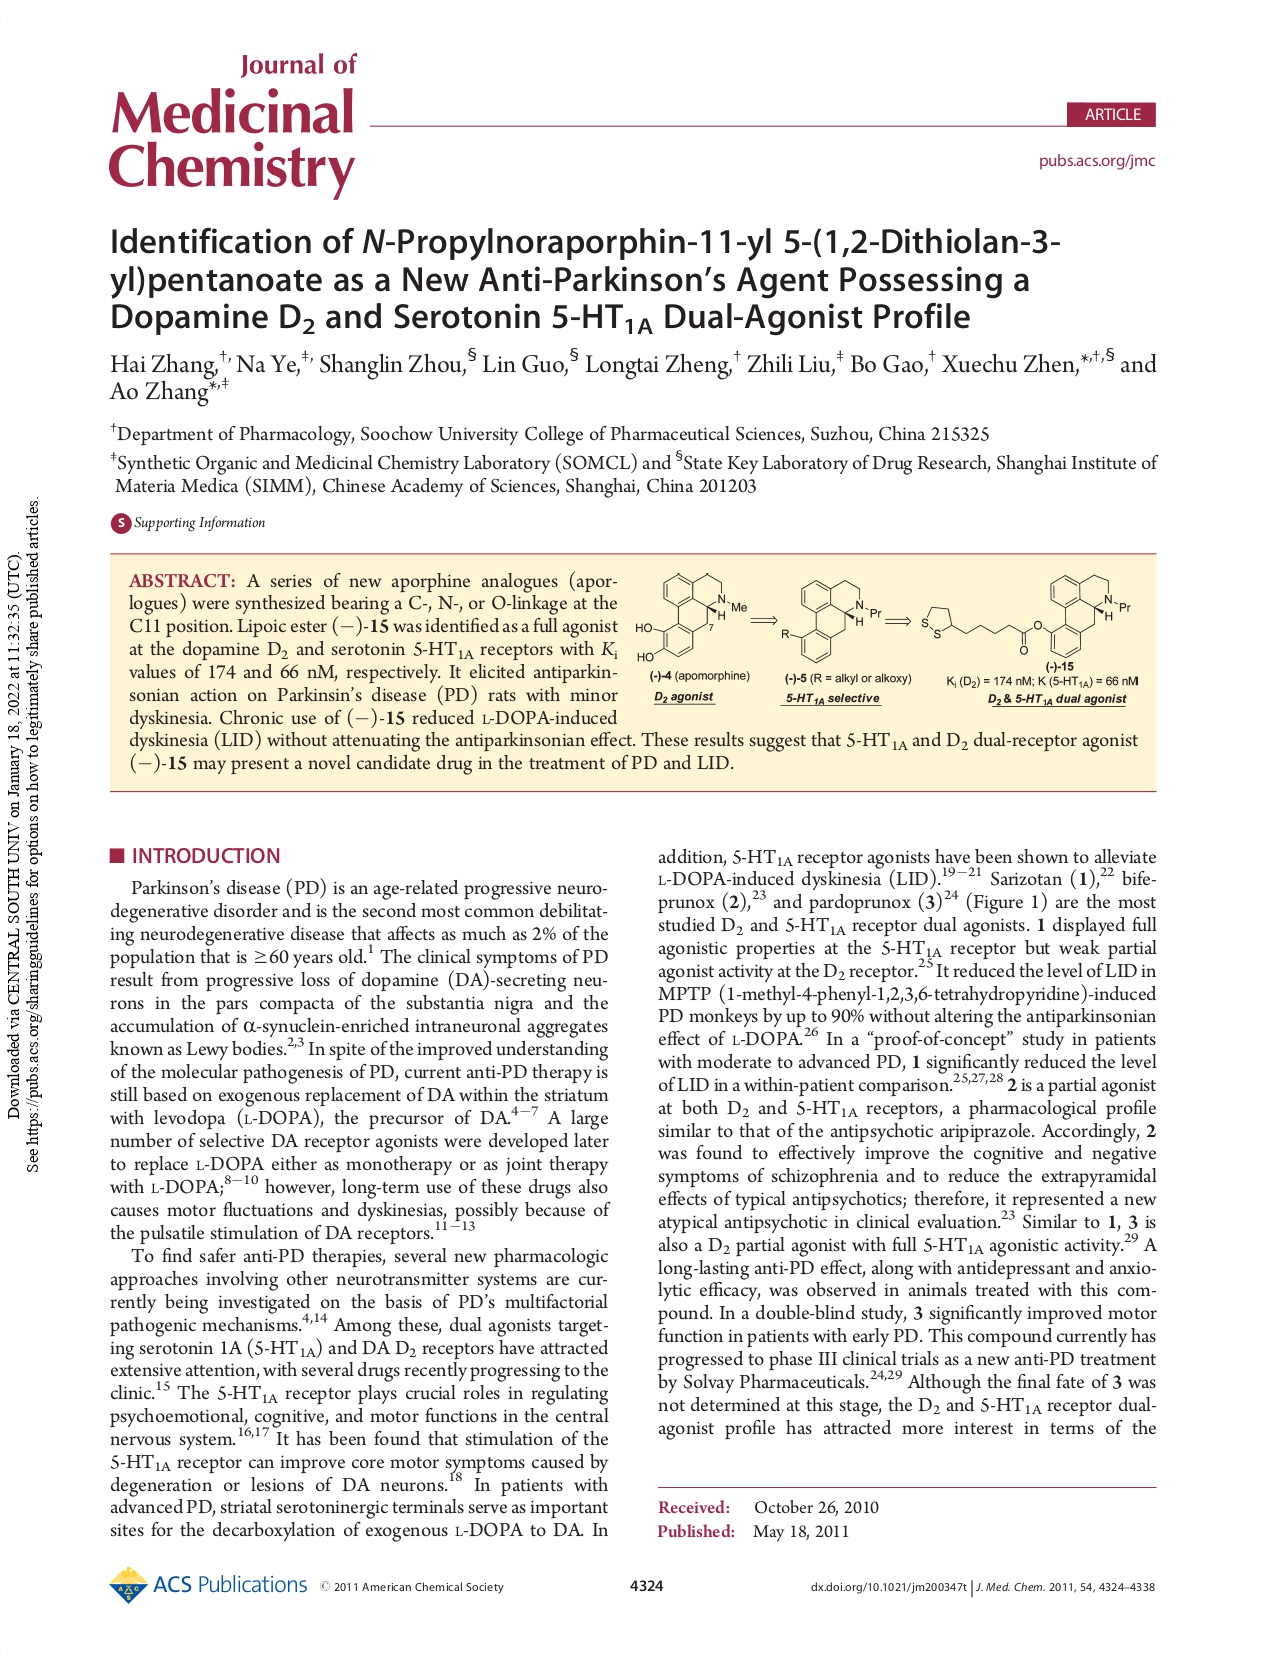exist_molecular: (919, 571, 1133, 661), (630, 569, 749, 665), (777, 576, 883, 668)
